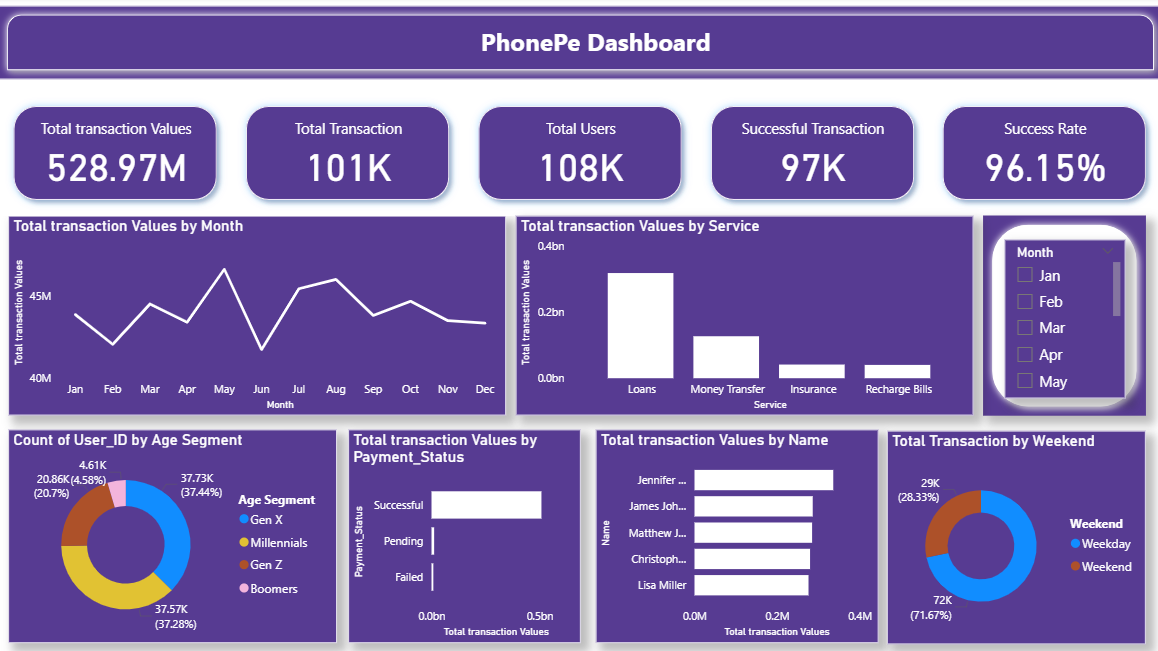

The page's visual inventory and layout, read from the dashboard file:
{"tool":"powerbi","page":{"name":"Overall","canvas":[1280,720],"ordinal":0},"visuals":[{"type":"lineChart","fields":{"Y":["Measures (2).Total transaction Values"],"Category":["Date_Table.Month"]},"box":[12.3,240.1,546.1,219.6],"z":0},{"type":"shape","box":[1.4,9.6,1278.9,81],"z":1000},{"type":"textbox","box":[396.6,26.1,521.4,48],"z":2000},{"type":"cardVisual","fields":{"Data":["Measures (2).Total transaction Values","Measures (2).Total Transaction","Measures (2).Total Users","Measures (2).successfull Transaction","Measures (2).Successful Rate"]},"box":[1.4,102.9,1278.9,137.2],"z":3000},{"type":"shape","box":[1082.7,240.1,178.4,219.6],"z":4000},{"type":"slicer","fields":{"Values":["Date_Table.Month"]},"box":[1106,266.2,133.1,174.3],"z":5000},{"type":"clusteredColumnChart","fields":{"Category":["All_Transactions.Service"],"Y":["Measures (2).Total transaction Values"]},"box":[569.5,240.1,502.2,219.6],"z":6000},{"type":"donutChart","fields":{"Category":["All_Users.Age Segment"],"Y":["CountNonNull(All_Transactions.User_ID)"]},"box":[12.3,474.8,360.9,234.6],"z":7000},{"type":"clusteredBarChart","fields":{"Category":["All_Transactions.Payment_Status"],"Y":["Measures (2).Total transaction Values"]},"box":[385.6,474.8,255.2,234.6],"z":8000},{"type":"clusteredBarChart","fields":{"Y":["Measures (2).Total transaction Values"],"Category":["All_Users.Name"]},"box":[657.3,474.8,310.1,234.6],"z":9000},{"type":"donutChart","fields":{"Y":["Measures (2).Total Transaction"],"Category":["Date_Table.Weekend"]},"box":[977,476.2,284,234.6],"z":10000}]}

Visuals, with their boxes in screenshot pixels (x1, y1, x2, y2), scaled from the page's 1280x720 canvas onto the 1158x651 screenshot:
lineChart - Measures (2).Total transaction Values x Date_Table.Month: region(11, 217, 505, 416)
shape: region(1, 9, 1157, 82)
textbox: region(359, 24, 831, 67)
cardVisual - Measures (2).Total transaction Values x Measures (2).Total Transaction: region(1, 93, 1157, 217)
shape: region(980, 217, 1141, 416)
slicer - Date_Table.Month: region(1001, 241, 1121, 398)
clusteredColumnChart - All_Transactions.Service x Measures (2).Total transaction Values: region(515, 217, 970, 416)
donutChart - All_Users.Age Segment x CountNonNull(All_Transactions.User_ID): region(11, 429, 338, 641)
clusteredBarChart - All_Transactions.Payment_Status x Measures (2).Total transaction Values: region(349, 429, 580, 641)
clusteredBarChart - Measures (2).Total transaction Values x All_Users.Name: region(595, 429, 875, 641)
donutChart - Measures (2).Total Transaction x Date_Table.Weekend: region(884, 431, 1141, 643)
